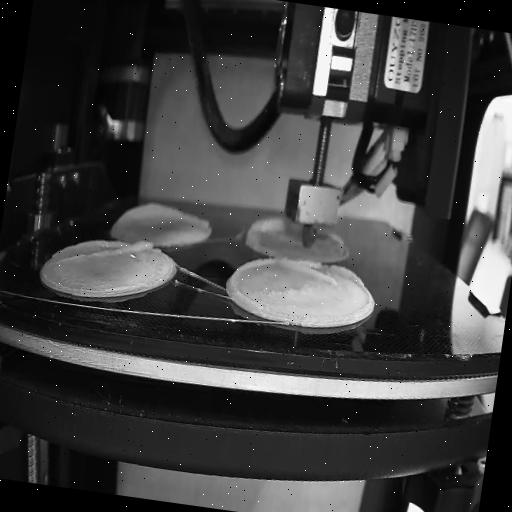over_extrusion: (56, 227, 154, 278), (112, 198, 212, 243), (276, 256, 368, 294), (226, 252, 276, 312), (244, 211, 290, 252)
